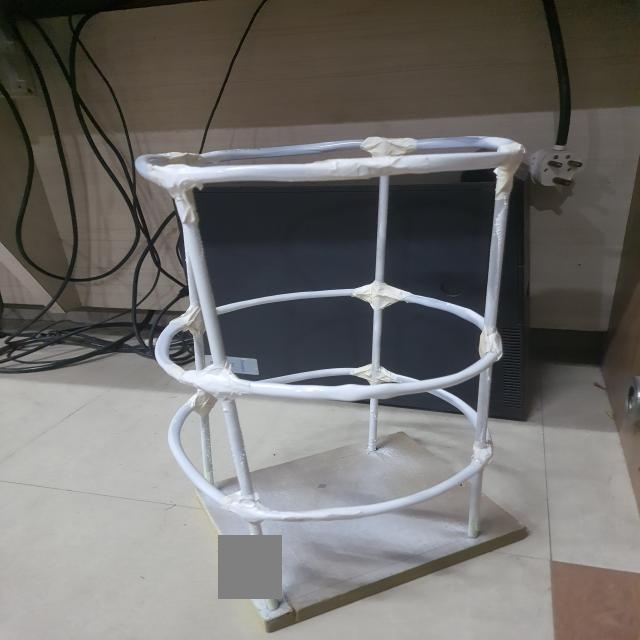silo: (124, 134, 501, 578)
